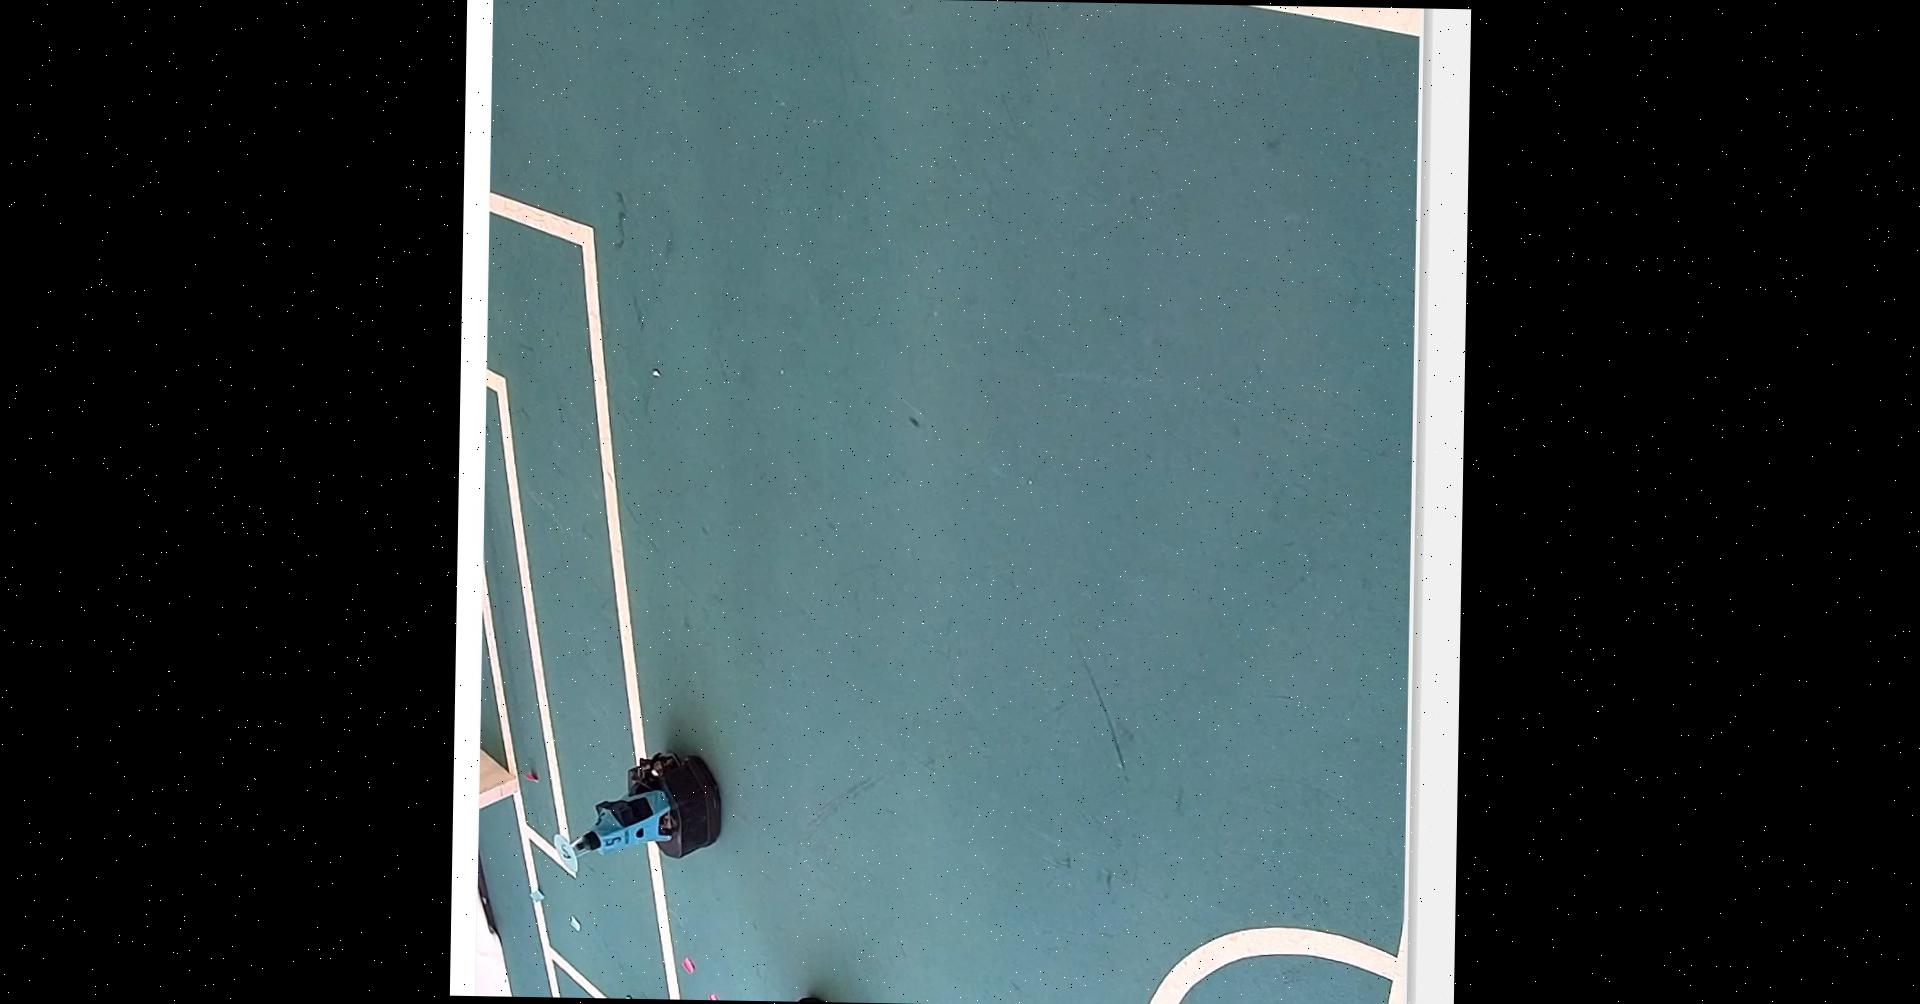Team_Blue: (542, 734, 725, 876)
